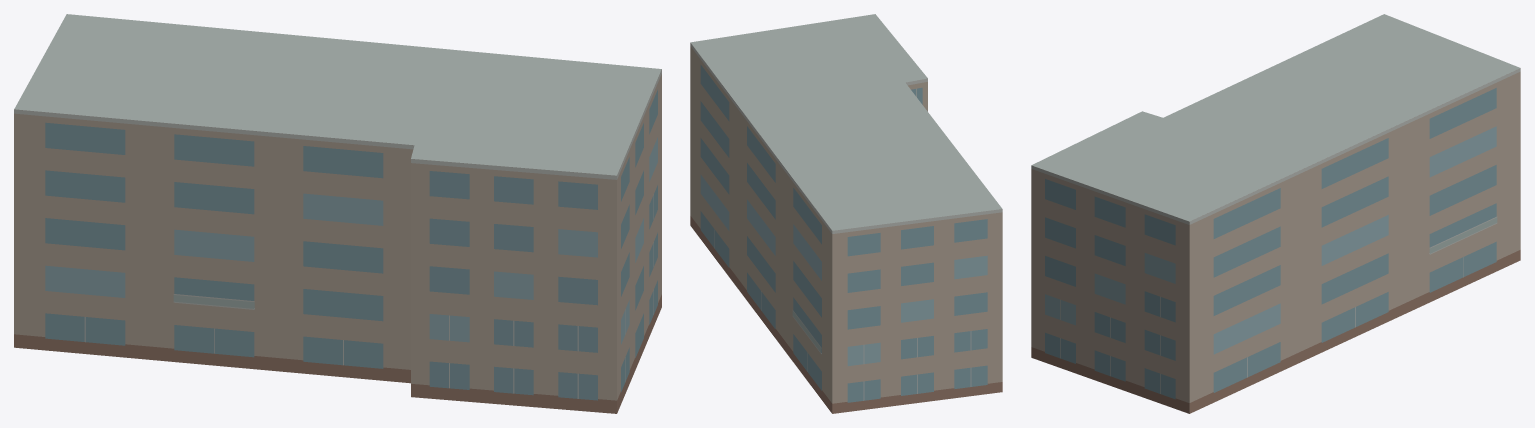
Rendered from survey-upis-32747782.glb.
3 renders of one model, left to right at view 1: azimuth 30°, elevation 25°; view 2: azimuth 150°, elevation 25°; view 3: azimuth 270°, elevation 25°, orthographic. The views are drawn at different scales.
Parts seen in each view (by area): view 1: survey-upis-32747782.tmp; view 2: survey-upis-32747782.tmp; view 3: survey-upis-32747782.tmp.
Boxes of the visible parts, left/top/right/bottom form: survey-upis-32747782.tmp: left=14, top=14, right=661, bottom=413; survey-upis-32747782.tmp: left=690, top=14, right=1002, bottom=413; survey-upis-32747782.tmp: left=1031, top=14, right=1520, bottom=413.
Bounding box in the file's own units: 31.49 × 13.6 × 31.38.
